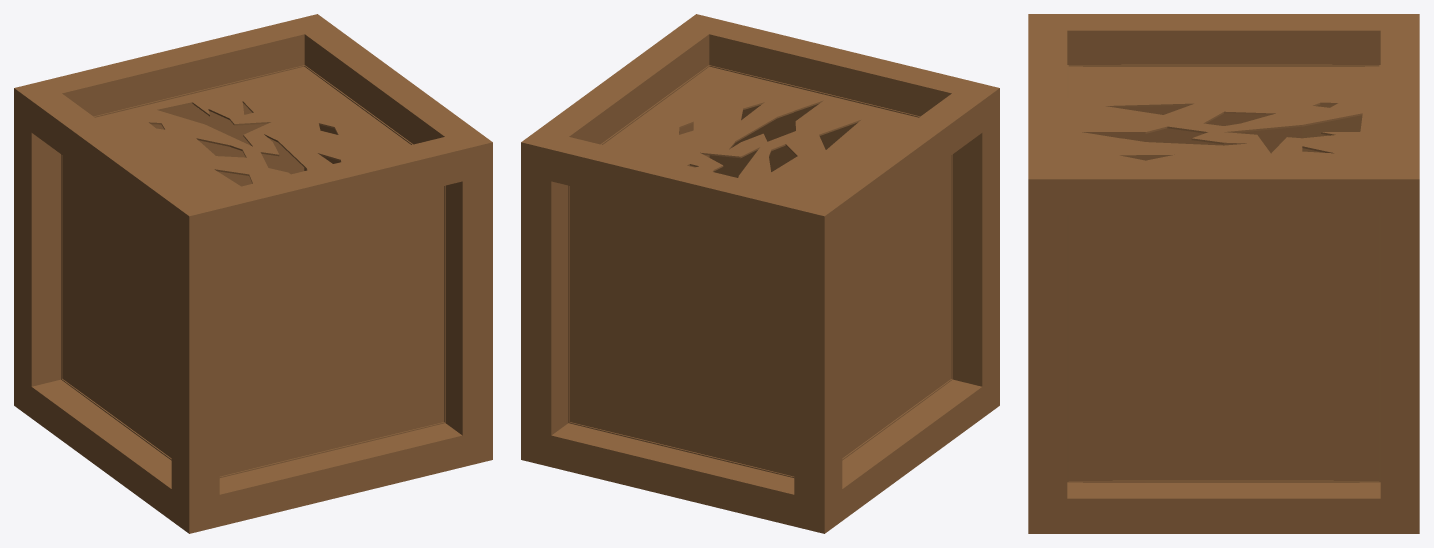
File: crackedbox2_FIXED.fbx
3 renders of one model, left to right at view 1: azimuth 30°, elevation 25°; view 2: azimuth 150°, elevation 25°; view 3: azimuth 270°, elevation 25°, orthographic. The views are drawn at different scales.
Visible parts, largest first — view 1: Cube; view 2: Cube; view 3: Cube.
Boxes of the visible parts, left/top/right/bottom form: Cube: left=14, top=14, right=492, bottom=533; Cube: left=521, top=14, right=999, bottom=533; Cube: left=1028, top=14, right=1419, bottom=533.
Size of the model in its own units: 200 by 200 by 200.
